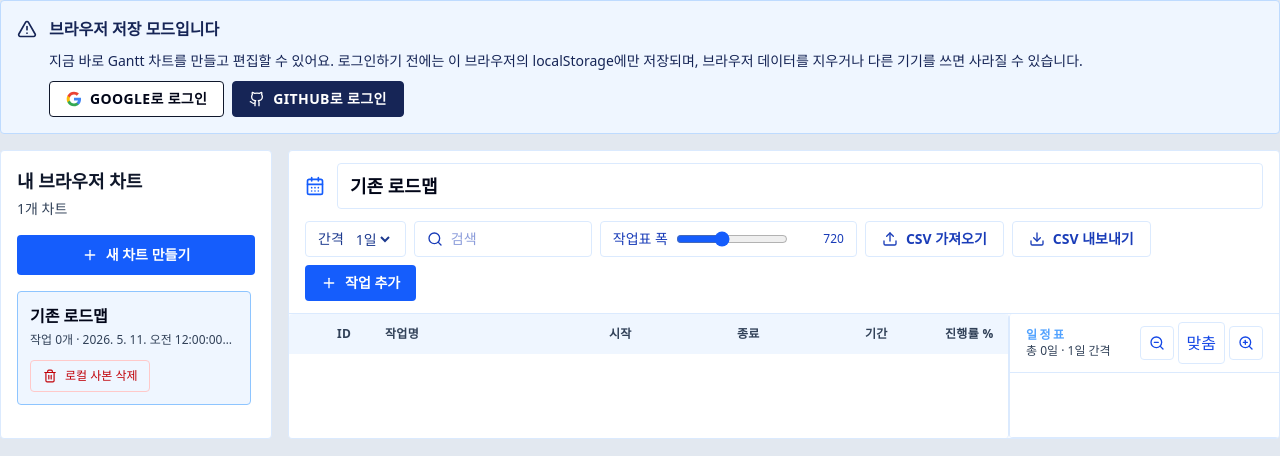
Scenario: LocalChartWorkspace › loads existing local charts and can delete a local copy
Expected: the heading "기존 로드맵" is shown, [30, 305, 108, 327]
Expected: the text "1개 차트" is shown, [17, 199, 67, 218]
Click the button "로컬 사본 삭제" at (90, 376), box [30, 360, 150, 392]
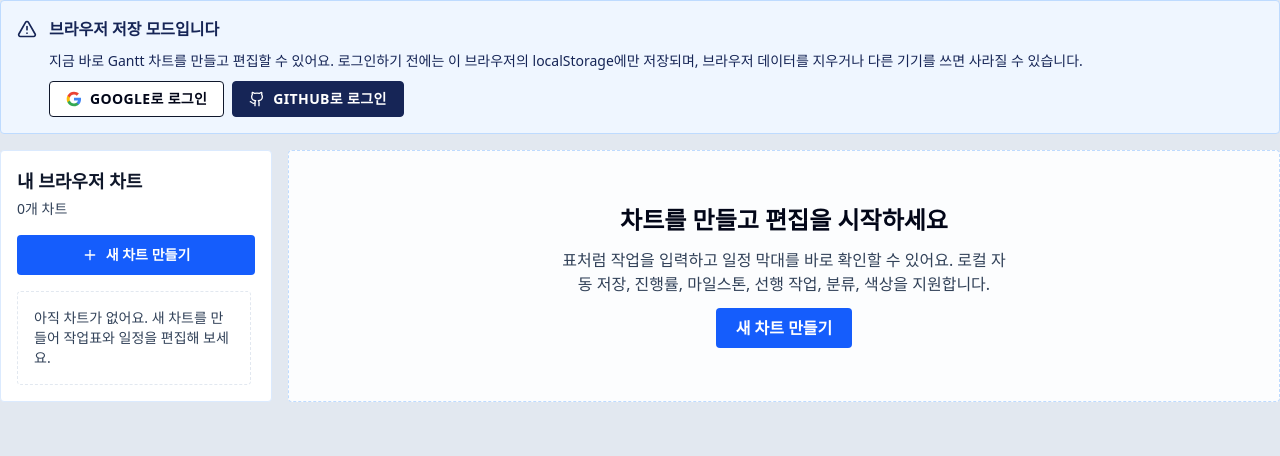
Result: the button "기존 로드맵" is gone
Result: the text "0개 차트" is shown at [17, 199, 67, 218]
